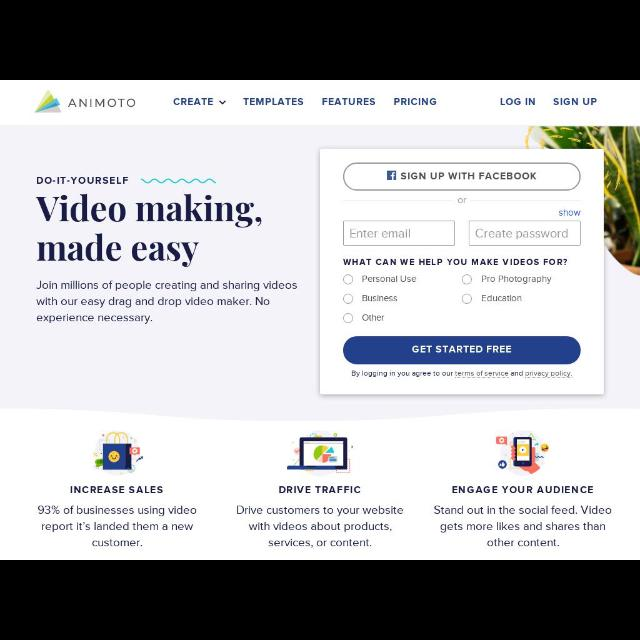backgroundimage: (1, 126, 639, 408)
checkbox: (342, 274, 353, 284), (342, 313, 353, 323), (344, 294, 354, 304), (462, 275, 472, 285), (462, 294, 472, 304)
icon: (387, 171, 397, 181), (220, 101, 227, 105)
image: (286, 428, 354, 474), (91, 430, 145, 476), (495, 430, 549, 476), (36, 90, 136, 112), (139, 177, 217, 185)
input: (344, 220, 454, 246), (469, 221, 581, 245)
panel: (320, 148, 604, 394)
spinner: (174, 98, 226, 106)
text: (36, 194, 262, 268), (35, 280, 298, 324), (434, 505, 612, 547), (236, 506, 404, 548), (37, 506, 196, 546), (342, 258, 568, 266), (351, 371, 573, 379), (452, 486, 594, 494), (476, 228, 568, 240), (401, 172, 537, 180), (412, 345, 512, 353), (70, 486, 164, 494), (37, 176, 129, 184), (280, 486, 360, 494), (351, 228, 411, 238), (482, 276, 552, 284), (243, 98, 304, 106), (322, 98, 376, 106), (363, 276, 417, 282), (482, 294, 522, 302), (174, 98, 214, 106), (554, 98, 596, 105), (395, 98, 437, 105), (362, 294, 398, 302), (500, 98, 536, 105), (363, 314, 385, 322), (559, 210, 581, 217), (458, 198, 468, 204)
textbutton: (343, 337, 581, 365), (344, 163, 580, 191)
toolbar: (1, 80, 640, 124)
